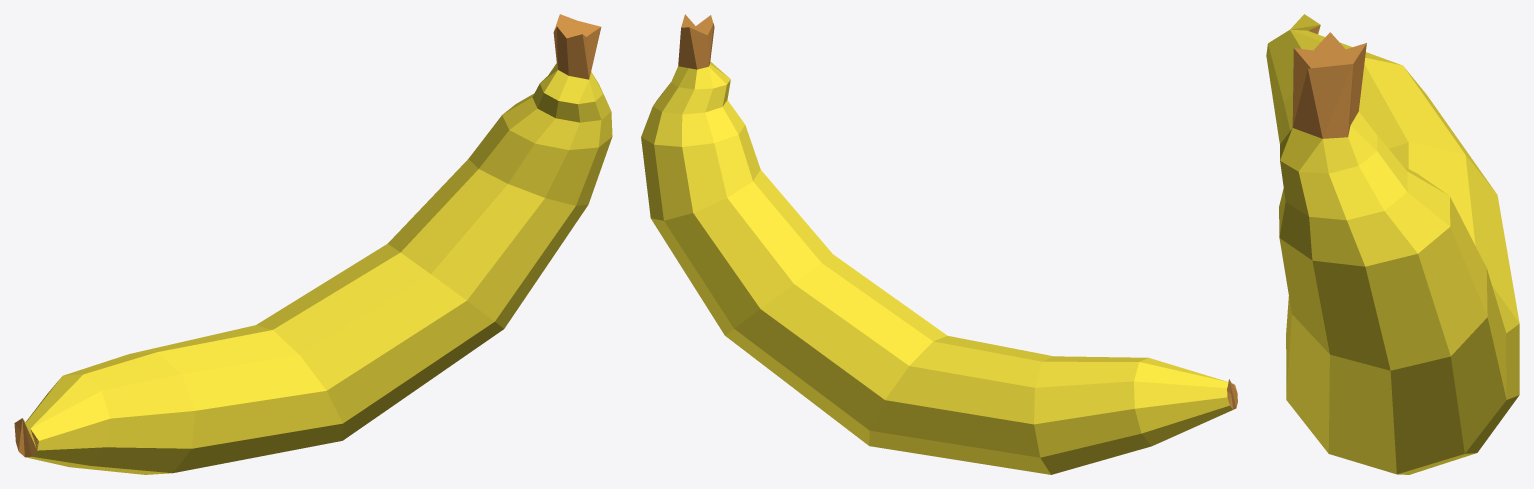
File: banana.obj
The picture shows the model from 3 angles, left to right: view 1: azimuth 30°, elevation 25°; view 2: azimuth 150°, elevation 25°; view 3: azimuth 270°, elevation 25°; orthographic projection. The views are drawn at different scales.
Parts seen in each view (by area): view 1: group231160751; view 2: group231160751; view 3: group231160751.
Part boxes in pixels (x1,y1,x2,y2): group231160751: (14, 14, 612, 474); group231160751: (641, 14, 1237, 474); group231160751: (1266, 14, 1519, 474).
Size of the model in its own units: 0.4352 by 0.2593 by 0.0985.
